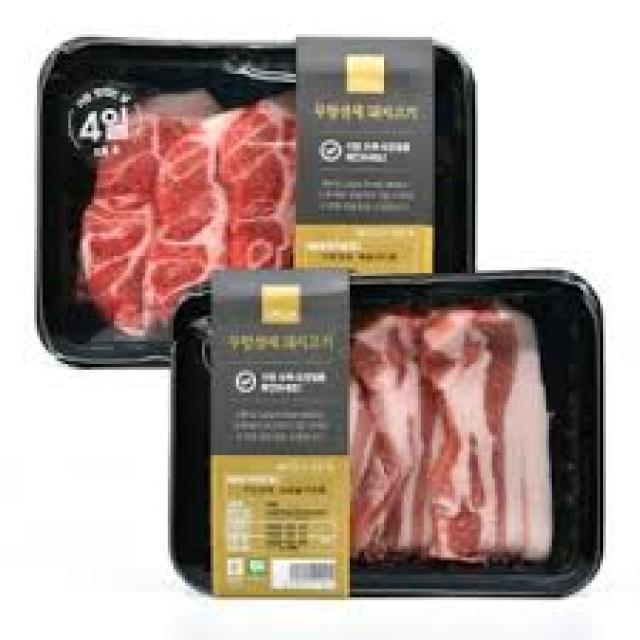pork: (421, 304, 555, 572)
